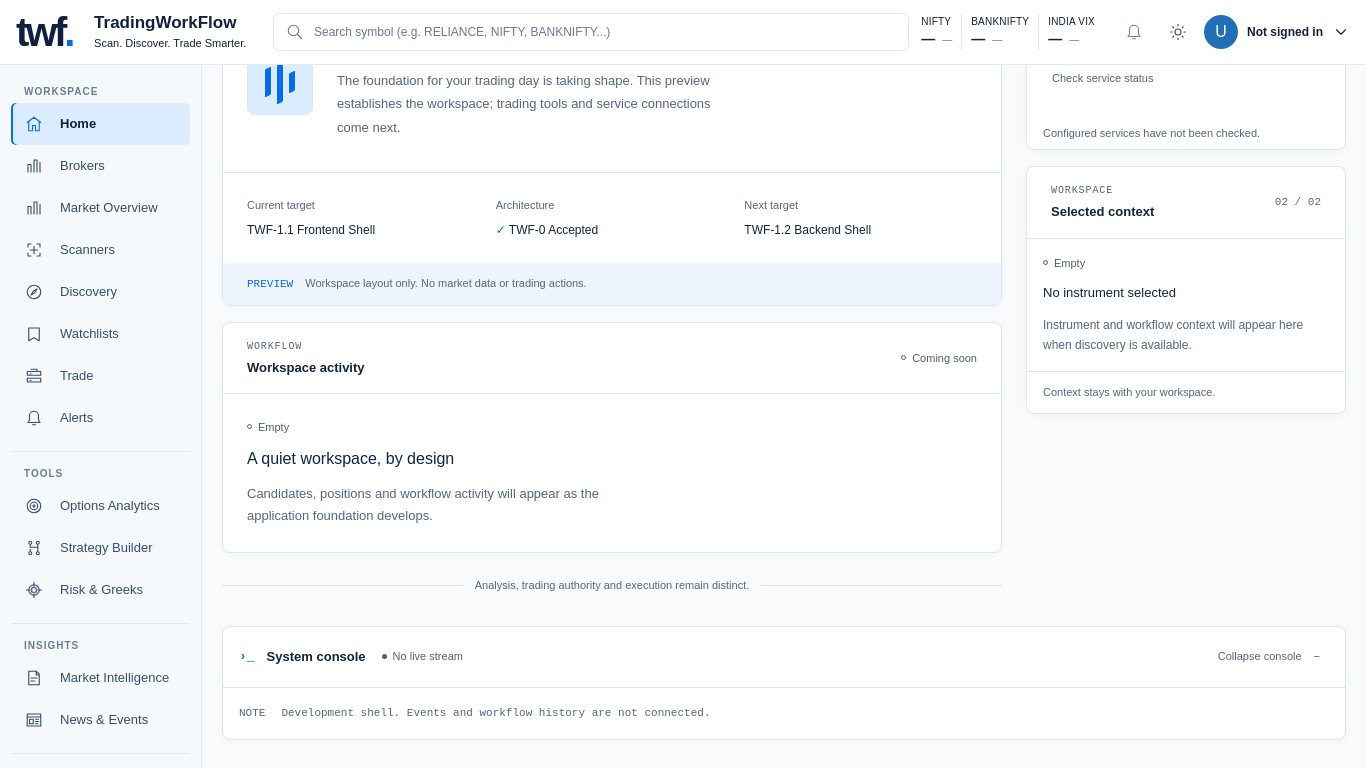
it: console collapse and expansion preserve its content
This screenshot has width=1366, height=768.
(page scrolled)
Click the button "Collapse console −" at (1269, 656), box [1209,634,1329,678]
(page scrolled)
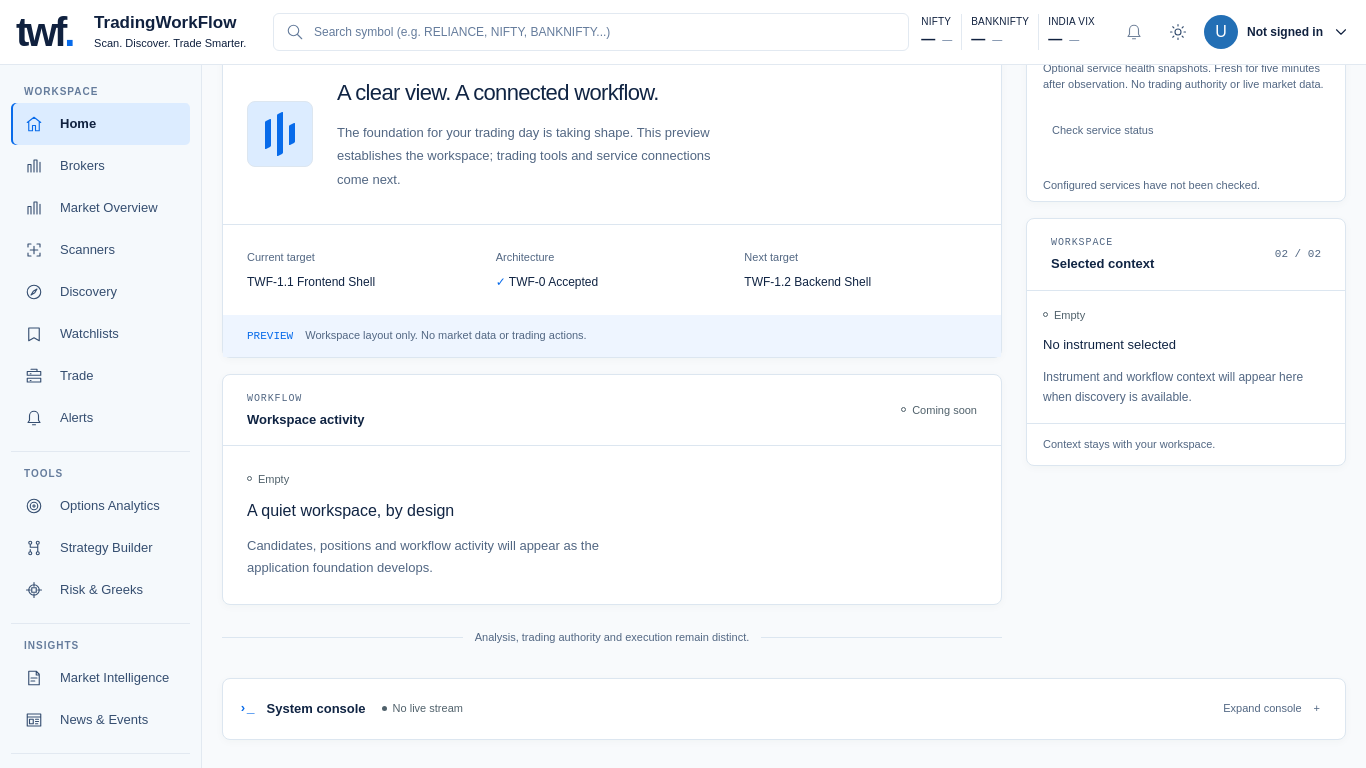
Click the button "Expand console +" at (1272, 708), box [1214,686,1329,730]
(page scrolled)
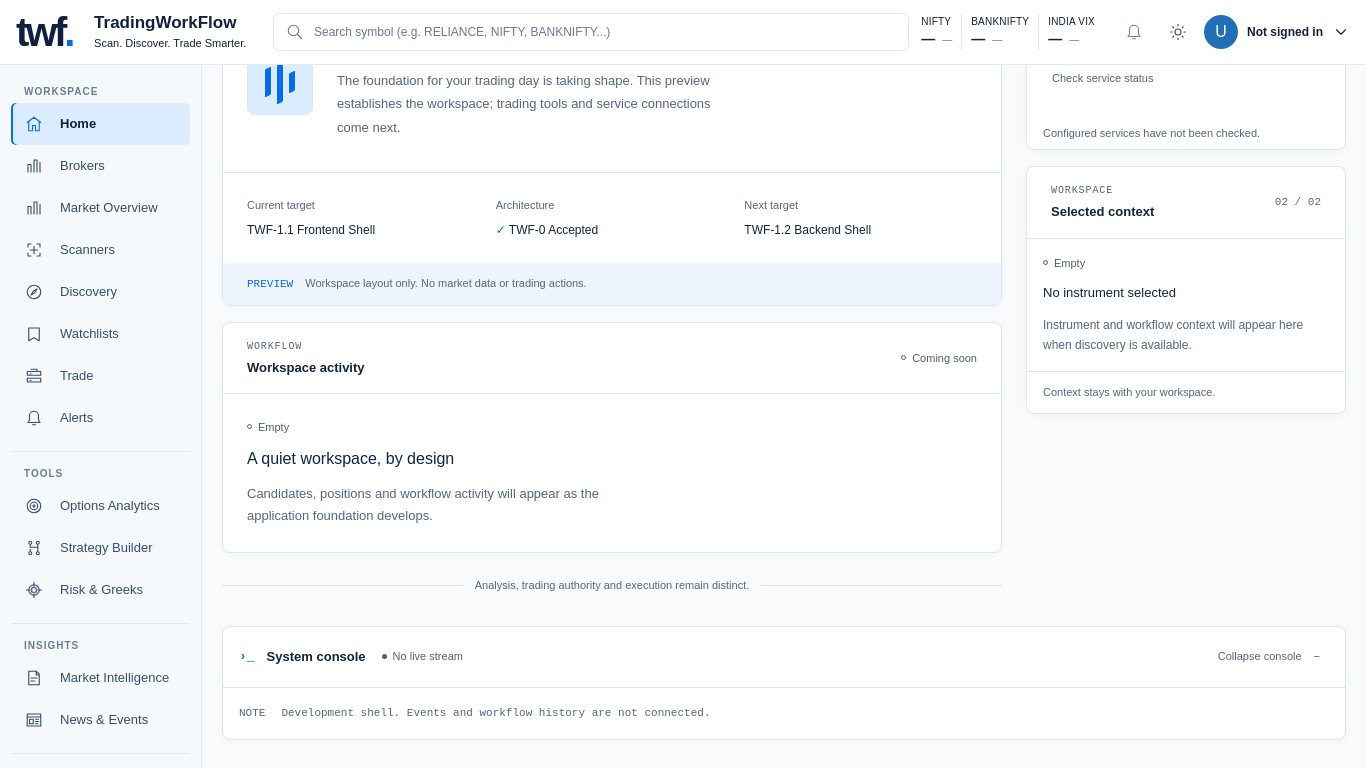
Expected: the element named "System console content" shows "Events and workflow history are not connected.", [281,706,710,718]
